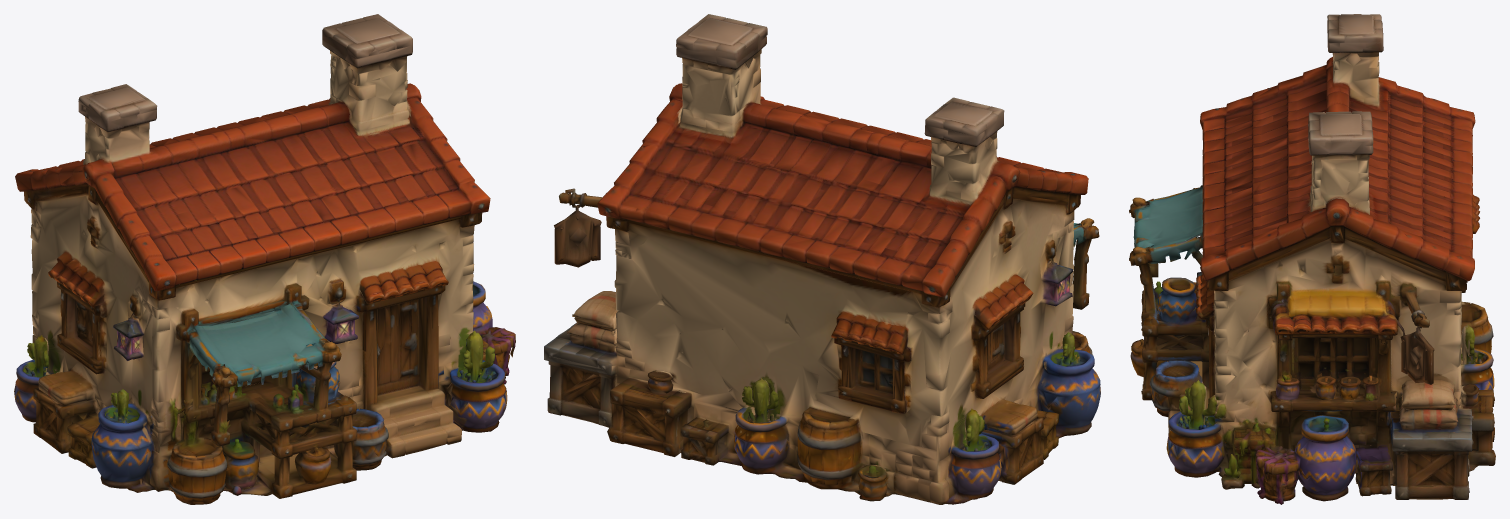
The model's file is casa_de_adobe.glb.
3 views of the same model, side by side, from view 1: azimuth 30°, elevation 25°; view 2: azimuth 150°, elevation 25°; view 3: azimuth 270°, elevation 25° (orthographic). The views are drawn at different scales.
Visible parts, largest first — view 1: casa_de_adobe; view 2: casa_de_adobe; view 3: casa_de_adobe.
Boxes of the visible parts, <box> form: casa_de_adobe: <box>14,14,515,504</box>; casa_de_adobe: <box>544,14,1100,504</box>; casa_de_adobe: <box>1129,14,1495,504</box>.
Size of what is drawn, in the model's own units: 5.84 by 4.5 by 4.5.
1 material, 1 textured.
